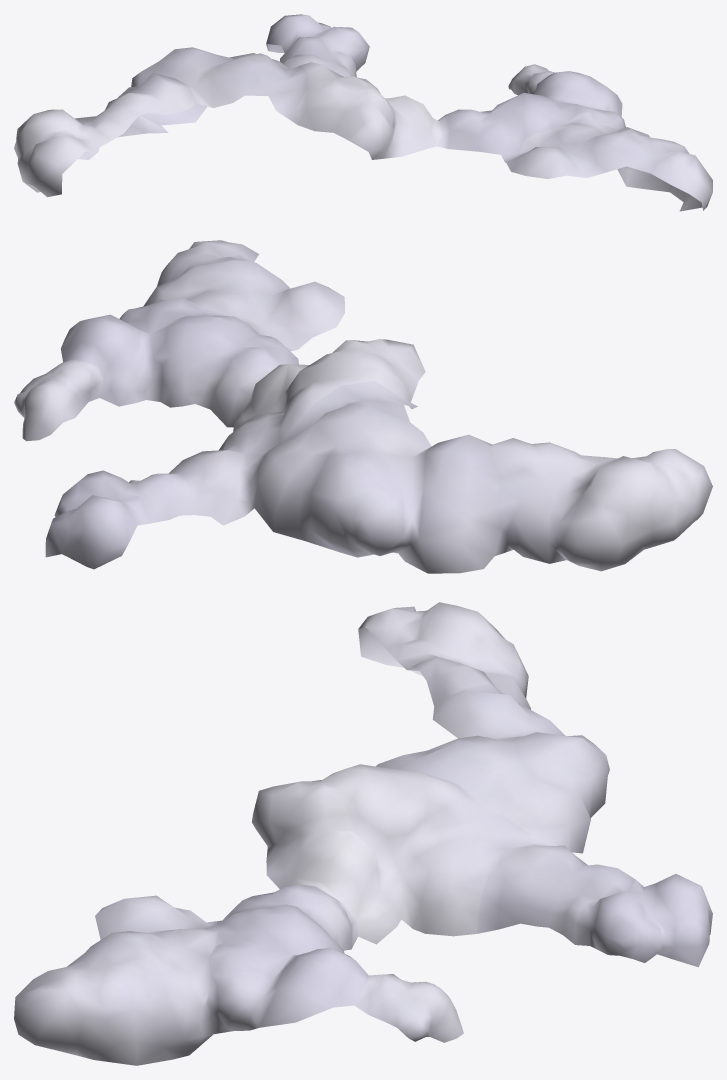
Rendered from OP_KD_Cloud_16a.FBX.
3 views of the same model, one above another, from view 1: azimuth 30°, elevation 25°; view 2: azimuth 150°, elevation 25°; view 3: azimuth 270°, elevation 25° (orthographic). The views are drawn at different scales.
Visible parts, largest first — view 1: OP_KD_Cloud_16a; view 2: OP_KD_Cloud_16a; view 3: OP_KD_Cloud_16a.
Part boxes in pixels (box(x1,y1,x2,y2)): OP_KD_Cloud_16a: box(14, 14, 712, 211); OP_KD_Cloud_16a: box(14, 240, 712, 573); OP_KD_Cloud_16a: box(14, 602, 712, 1065).
Size of the model in its own units: 20852 by 4099 by 17731.
